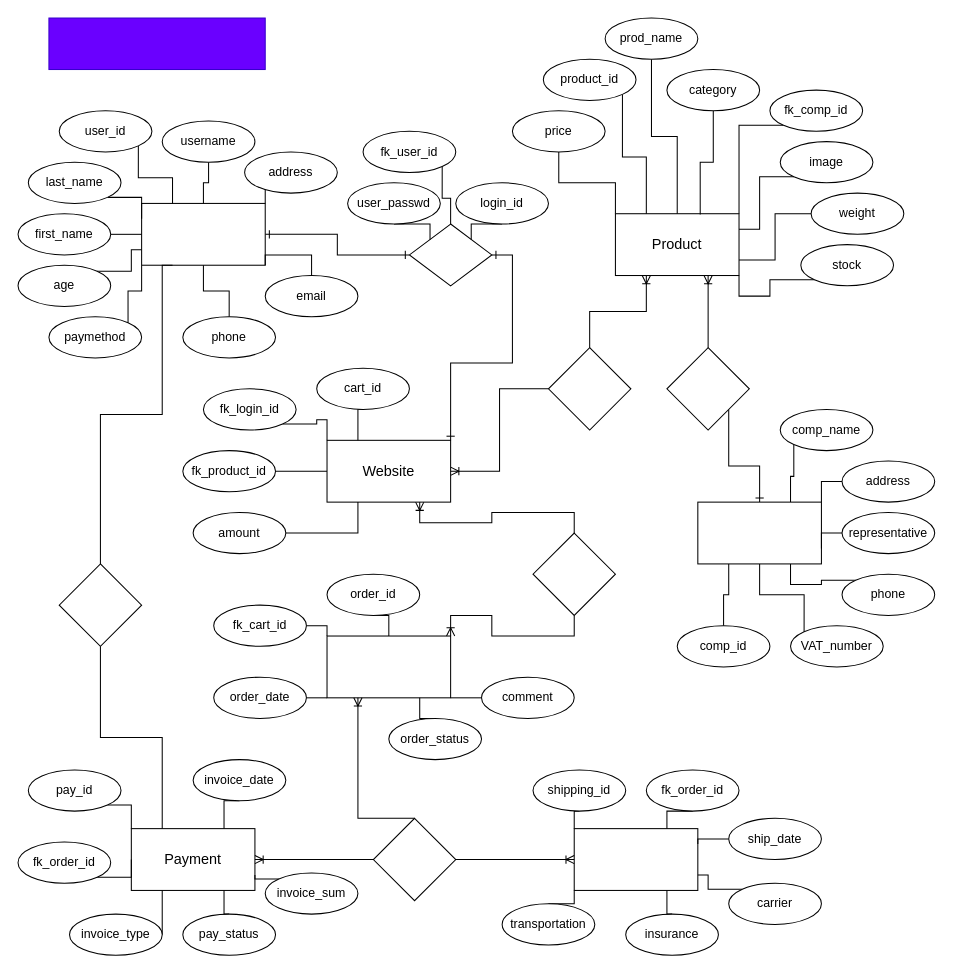
The diagram is 953 pixels wide and 973 high, and some of its shapes have lost their labels. Each missing label, with the box of its shape:
Company: (697, 501, 821, 564)
Customer: (141, 202, 265, 265)
deploys: (666, 347, 749, 430)
details: (372, 817, 456, 901)
famazon.dot: (48, 17, 265, 70)
lists: (547, 347, 631, 430)
Login: (408, 223, 492, 286)
pays invoice: (58, 563, 142, 646)
places: (532, 532, 615, 615)
Purchase: (326, 635, 451, 698)
Shipping: (573, 828, 698, 890)
